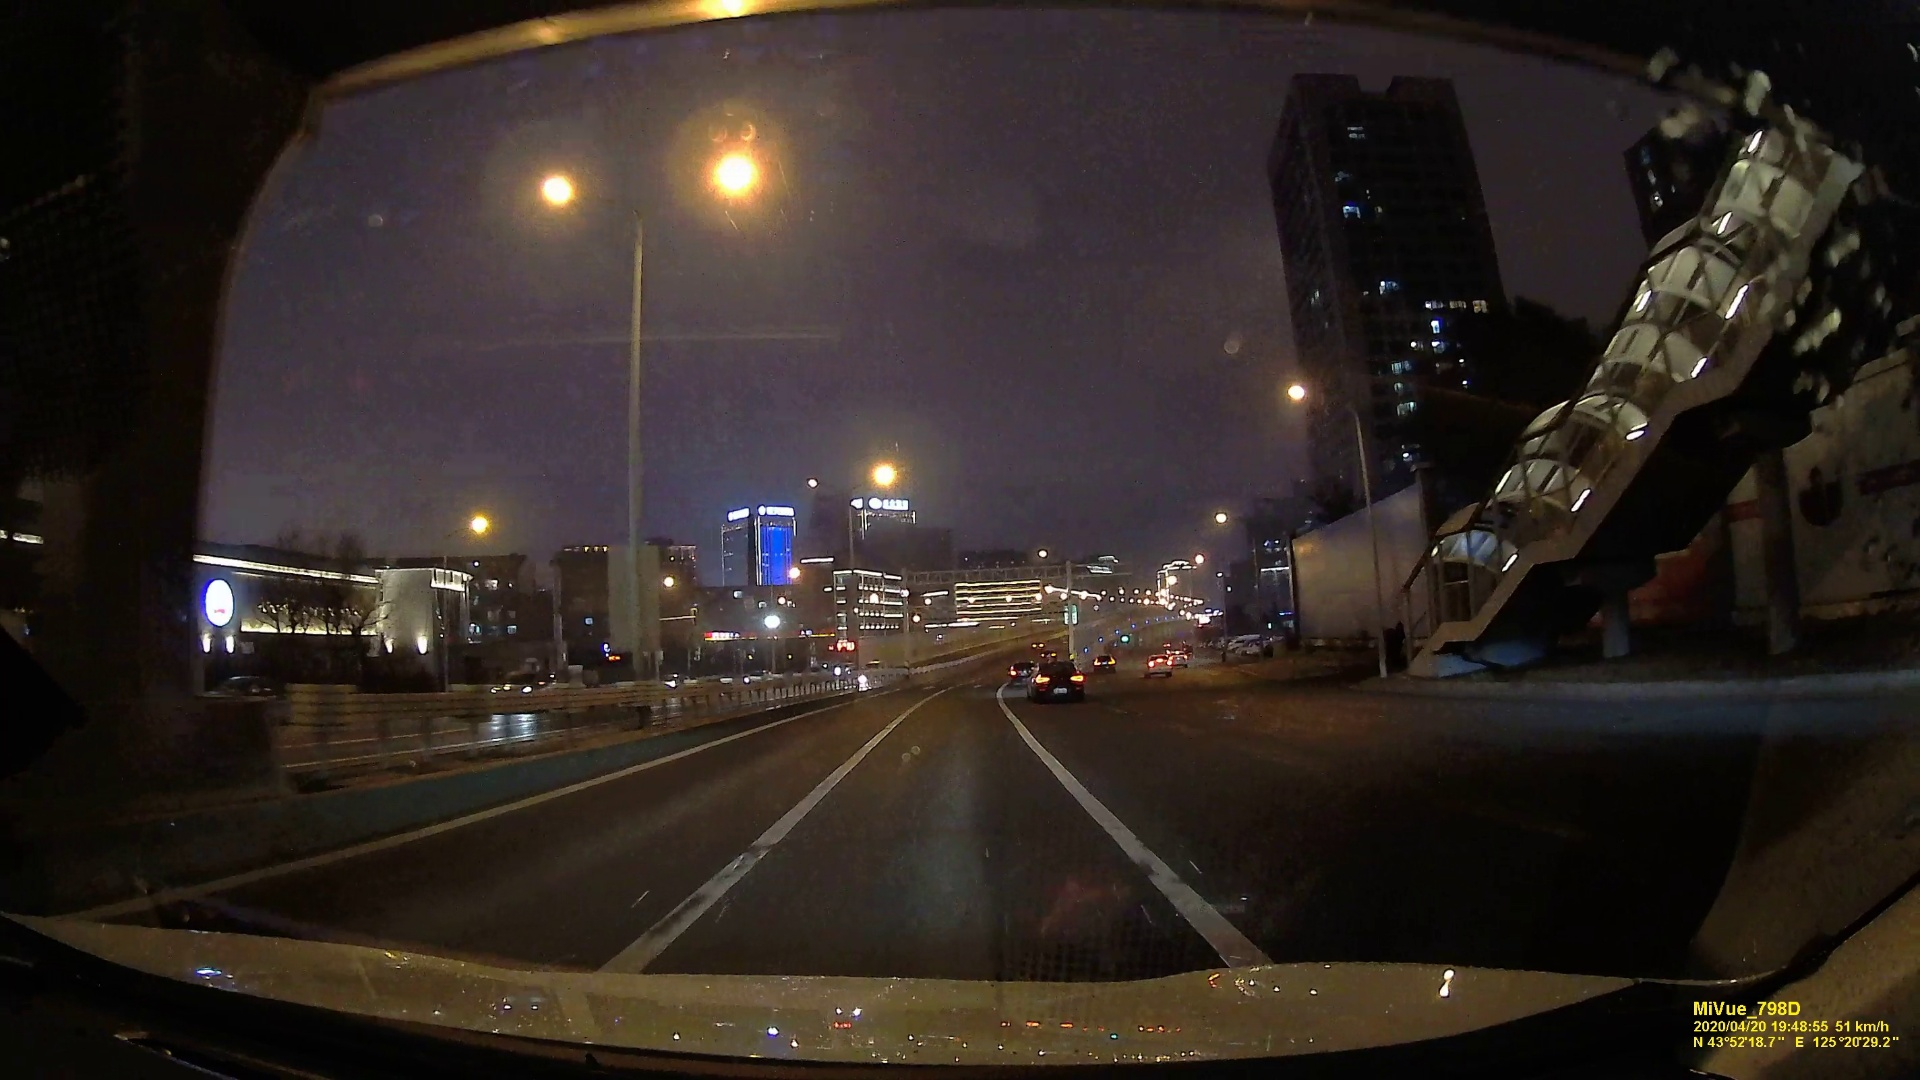vehicle: (1031, 662, 1083, 702), (1007, 661, 1033, 684), (1147, 654, 1172, 676), (1092, 654, 1117, 673)
